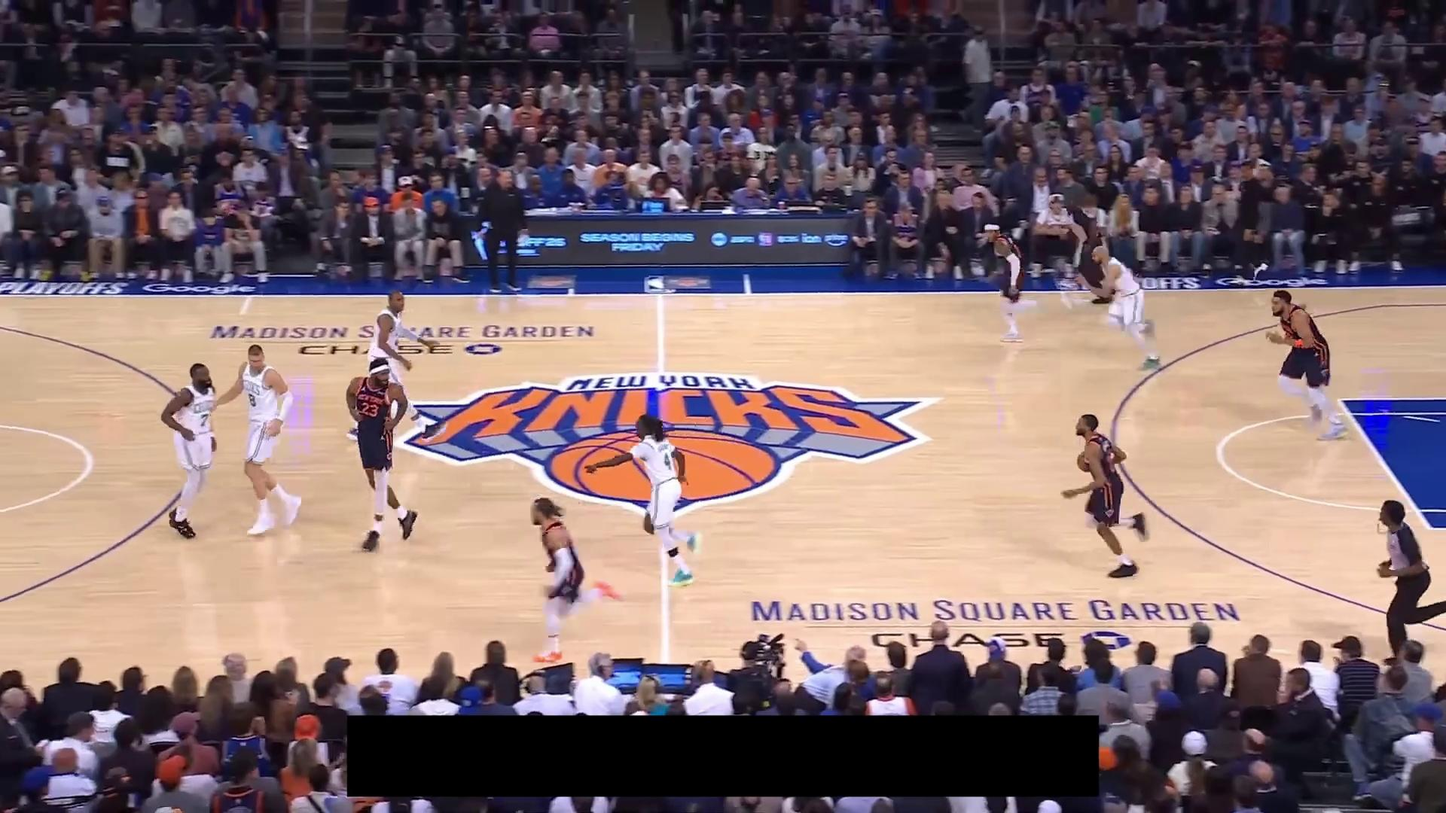ball: (1077, 452, 1095, 472)
number: (360, 401, 380, 418), (198, 412, 210, 428), (247, 391, 258, 408), (663, 452, 671, 470)
player: (585, 412, 703, 589), (210, 342, 303, 536), (529, 495, 624, 665), (346, 288, 448, 446), (345, 358, 420, 554), (1265, 288, 1350, 443), (1081, 244, 1163, 373), (160, 362, 219, 540), (979, 221, 1047, 344)
player-in-possession: (1060, 413, 1152, 579)
referee: (1376, 500, 1446, 666), (1045, 192, 1119, 306)
